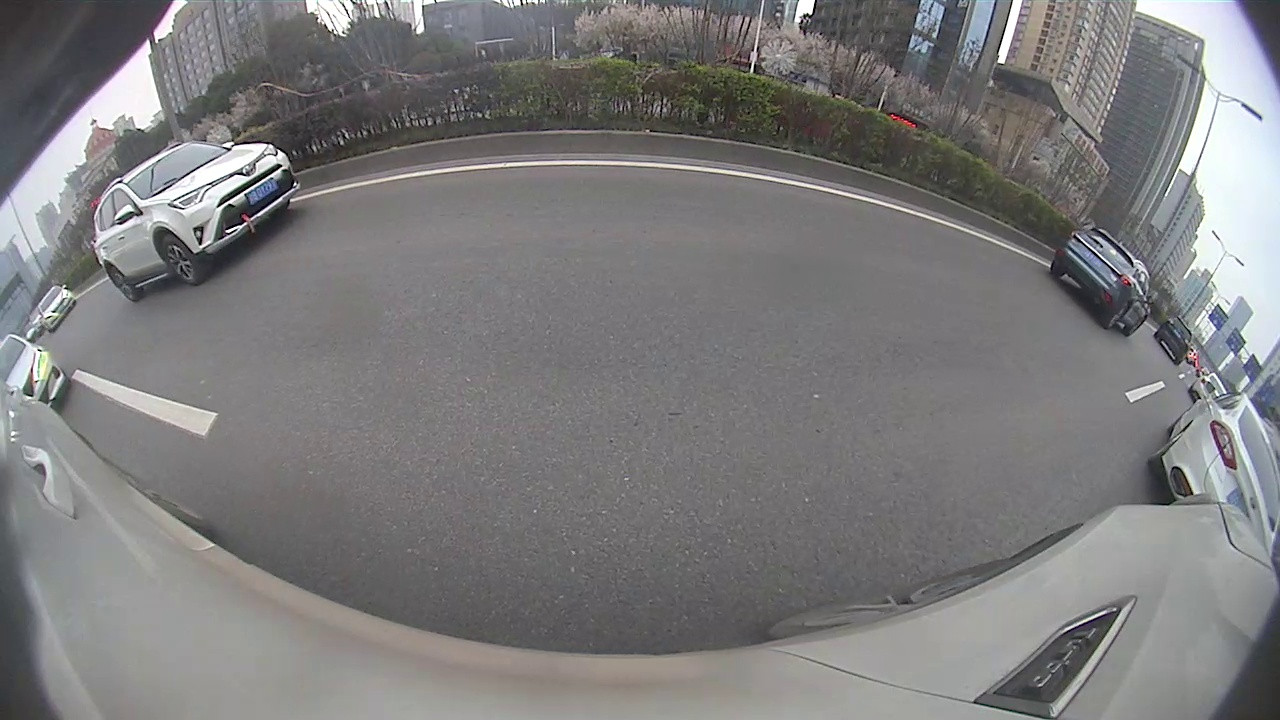bus: (759, 124, 860, 188)
car: (28, 223, 312, 390), (787, 121, 1025, 267), (347, 141, 542, 256), (581, 162, 599, 180), (638, 160, 657, 177)
front: (270, 241, 309, 279), (789, 183, 808, 219), (527, 185, 545, 215)
rear: (115, 314, 167, 373), (873, 204, 916, 259), (471, 194, 495, 243)
